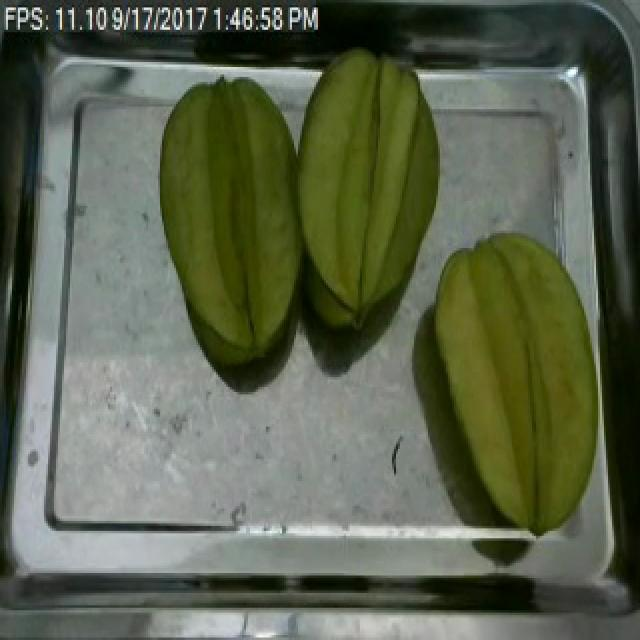fruit: (414, 225, 620, 546), (144, 65, 324, 382), (276, 39, 456, 344)
